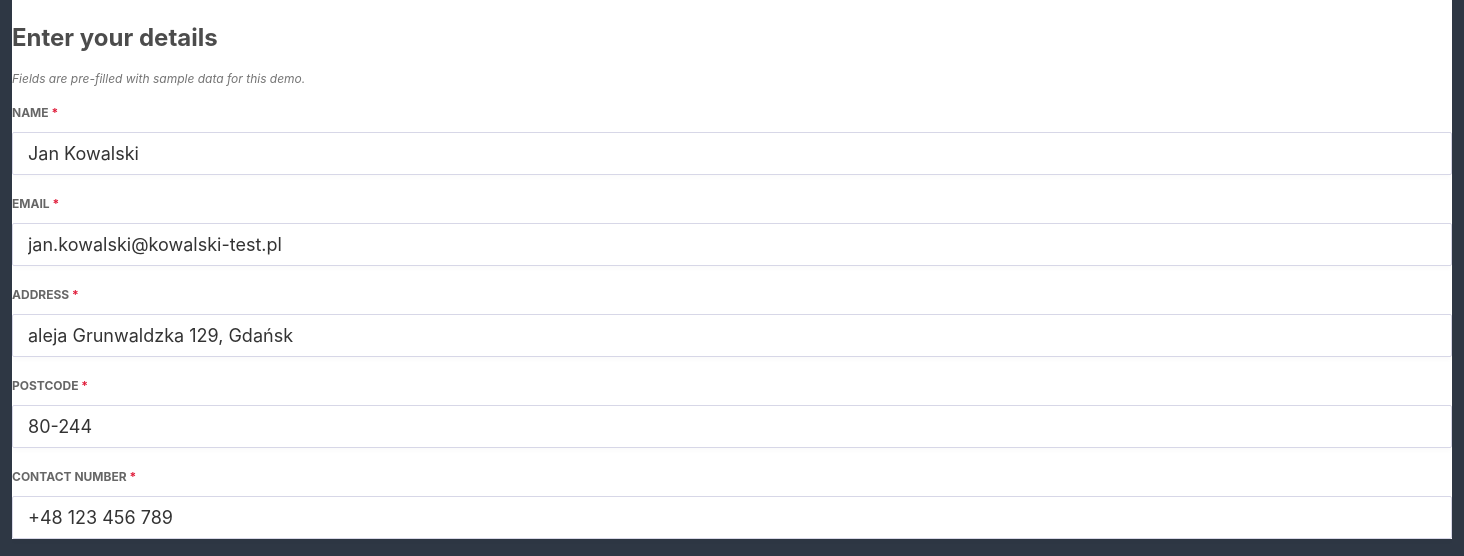
Test case: OrderForm › flags an invalid email and reports the form as invalid
The width and height of the screenshot is (1464, 556).
Replace the text in the field with placeholder "Enter your email" below "Email" with "not-an-email": (732, 244) left=12, top=223, right=1452, bottom=266
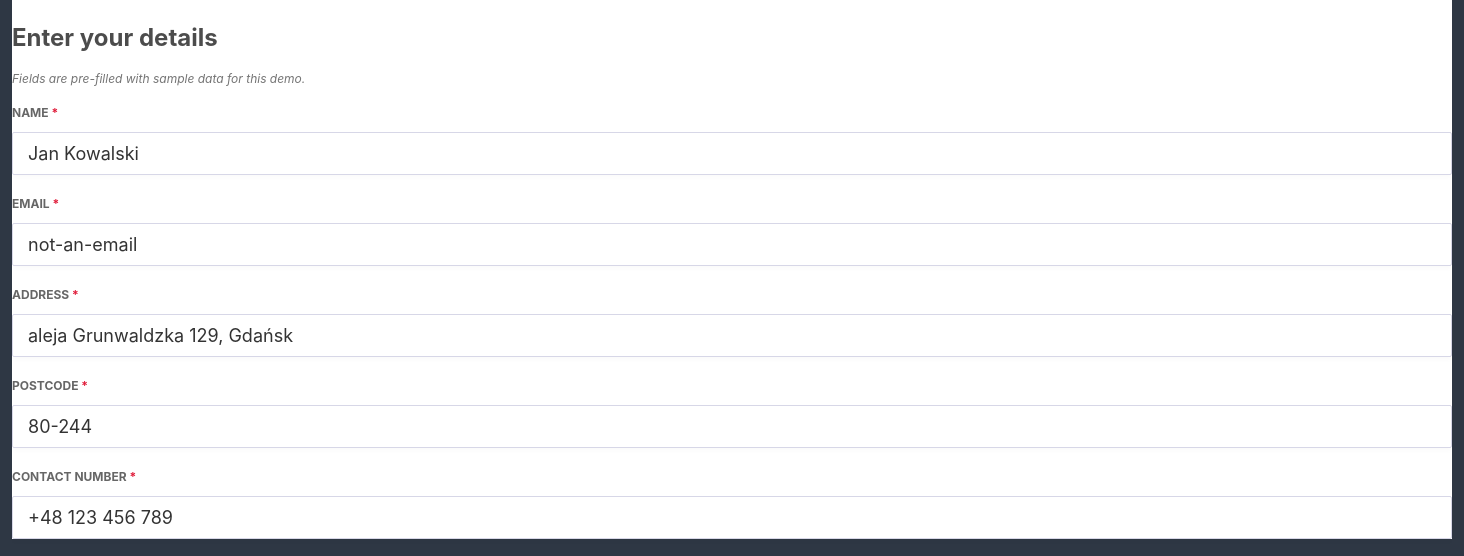
Leave the field with placeholder "Enter your email" below "Email", box left=12, top=223, right=1452, bottom=266
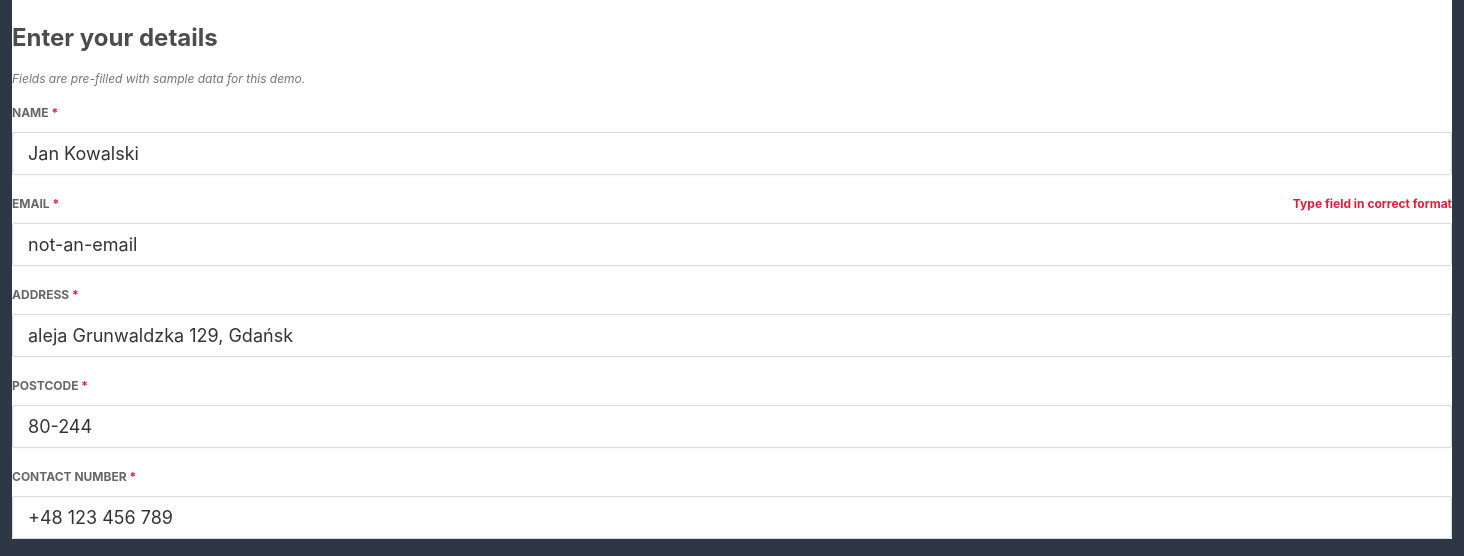
Check: the text "Type field in correct format" is shown, box left=1293, top=195, right=1452, bottom=213
